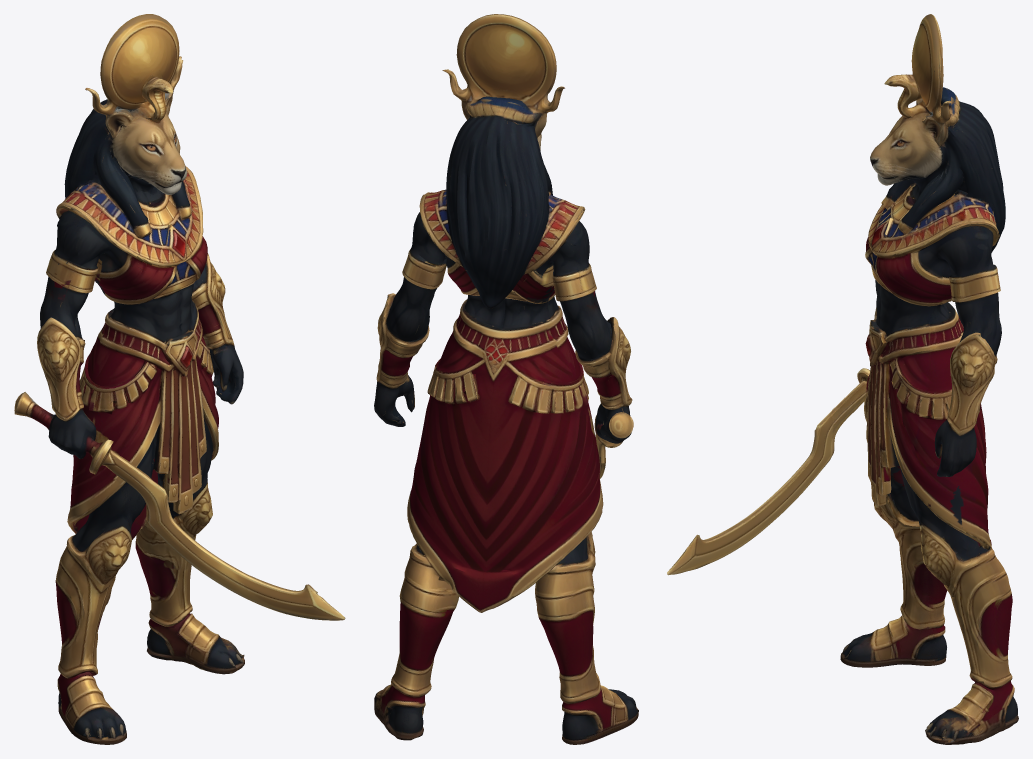
Rendered from sekhmet_v2_image.glb.
3 renders of one model, left to right at view 1: azimuth 30°, elevation 25°; view 2: azimuth 150°, elevation 25°; view 3: azimuth 270°, elevation 25°, orthographic. The views are drawn at different scales.
Bounding box in the file's own units: 0.692 × 1.9 × 0.8996.
1 material, 1 textured.
